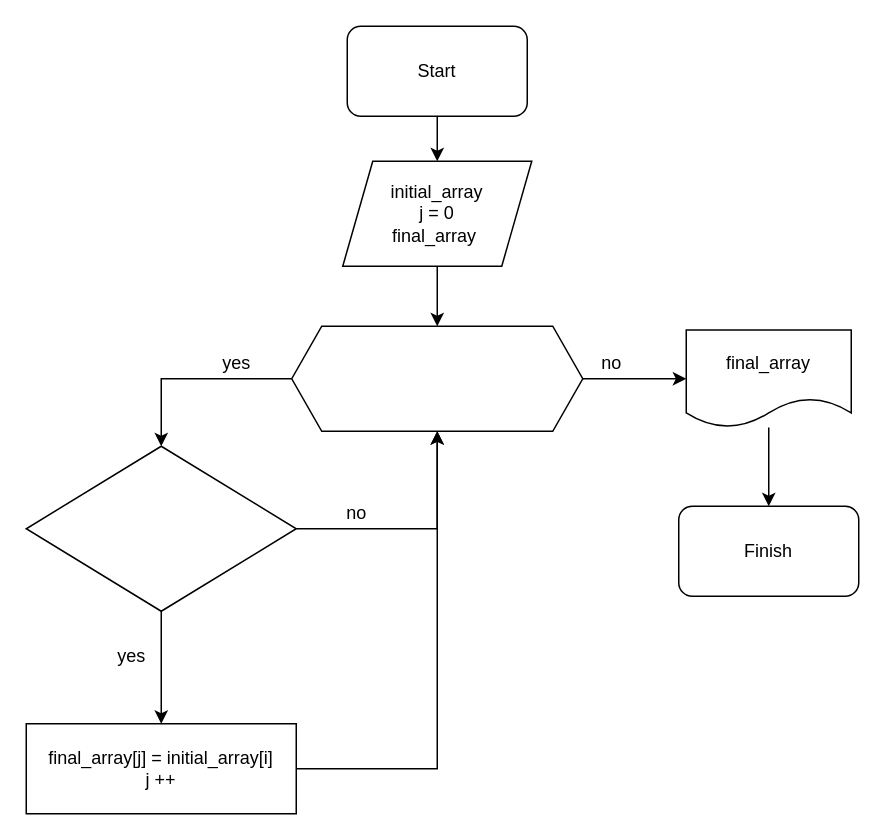
Image size: 885x840. Some labels were removed from this diagram. The box of each missing label's shape, as (x1, y1, x2, y2) in pixels:
i = 0; i < initial_array.length; i ++: (290, 325, 583, 431)
initial_array[i].length <= 3: (25, 445, 296, 611)
